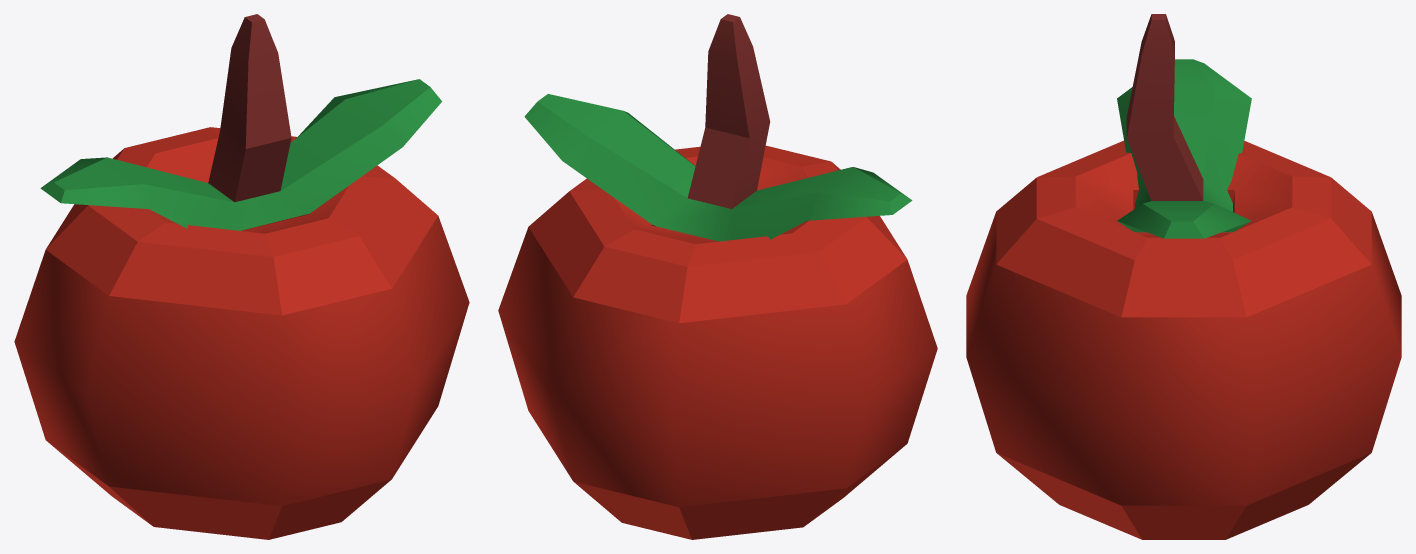
The model's file is manzana.fbx.
3 renders of one model, left to right at view 1: azimuth 30°, elevation 25°; view 2: azimuth 150°, elevation 25°; view 3: azimuth 270°, elevation 25°, orthographic. The views are drawn at different scales.
Visible parts, largest first — view 1: pCube1; view 2: pCube1; view 3: pCube1.
Part boxes in pixels (x1,y1,x2,y2): pCube1: (14,14,469,539); pCube1: (498,14,937,539); pCube1: (966,14,1401,539).
Bounding box in the file's own units: 38.04 × 45.27 × 37.99.
